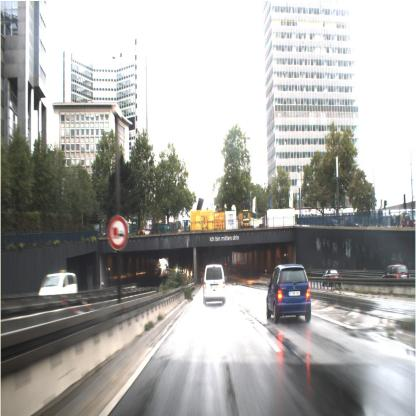no overtaking: (107, 214, 128, 250)
